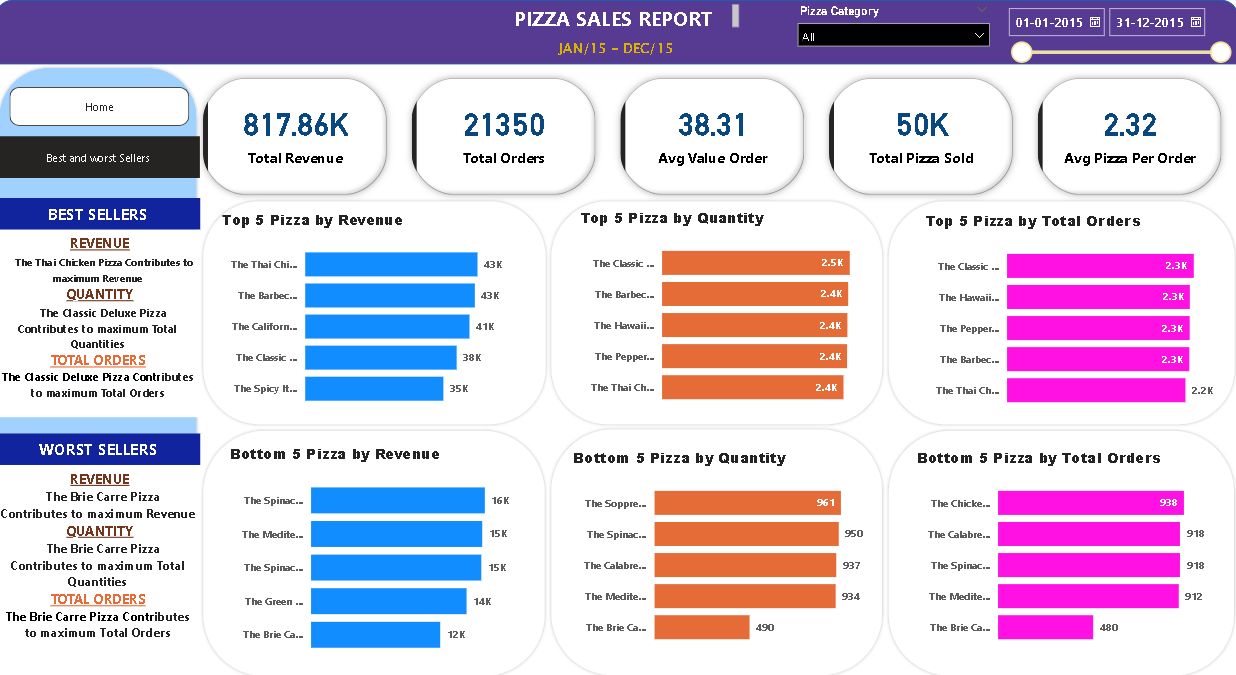

What the dashboard file says about the page in this screenshot:
{"tool":"powerbi","page":{"name":"Best and worst Sellers","canvas":[1500,820],"ordinal":1},"visuals":[{"type":"cardVisual","fields":{"Data":["pizza_sales.Total Revenue","pizza_sales.Total Orders","pizza_sales.Avg Value Order","pizza_sales.Total Pizza Sold","pizza_sales.Avg Pizza Per Order"]},"box":[233.7,77.9,1266.3,173.9],"z":0},{"type":"shape","box":[0,0,1499.9,77.9],"z":1000},{"type":"textbox","box":[597.8,0,304.3,39.9],"z":2000},{"type":"textbox","box":[628.6,43.5,240.9,45.3],"z":3000},{"type":"shape","box":[245.7,238.6,421.4,277.1],"z":4000},{"type":"shape","box":[1074.2,239.1,425.7,277.2],"z":5000},{"type":"shape","box":[246.4,516.3,420.3,304.3],"z":6000},{"type":"shape","box":[667.5,515,407.5,305],"z":7000},{"type":"shape","box":[1075,516.2,425,303.8],"z":8000},{"type":"shape","box":[0,77.9,246.4,742.7],"z":9000},{"type":"textbox","box":[0,277.2,246.4,226.4],"z":10000},{"type":"textbox","box":[0,239.1,246.4,38],"z":11000},{"type":"textbox","box":[0,523.5,246.4,38],"z":12000},{"type":"textbox","box":[0,561.6,246.4,259],"z":13000},{"type":"slicer","fields":{"Values":["pizza_sales.pizza_category"]},"box":[958.3,0,251.8,85.1],"z":14000},{"type":"slicer","fields":{"Values":["pizza_sales.order_date"]},"box":[1210.1,0,289.8,77.9],"z":15000},{"type":"shape","box":[666.6,239.1,407.6,277.2],"z":16000},{"type":"clusteredBarChart","title":"Top 5 Pizza by Revenue","fields":{"Y":["pizza_sales.Total Revenue"],"Category":["pizza_sales.pizza_name"]},"box":[268.6,251.4,370,252.9],"z":17000},{"type":"clusteredBarChart","title":"Bottom 5 Pizza by Revenue","fields":{"Y":["pizza_sales.Total Revenue"],"Category":["pizza_sales.pizza_name"]},"box":[277.2,534.4,360.5,269.9],"z":18000},{"type":"clusteredBarChart","title":"Top 5 Pizza by Quantity","fields":{"Category":["pizza_sales.pizza_name"],"Y":["Sum(pizza_sales.quantity)"]},"box":[701.4,250,360,252.9],"z":19000},{"type":"clusteredBarChart","title":"Bottom 5 Pizza by Quantity","fields":{"Category":["pizza_sales.pizza_name"],"Y":["Sum(pizza_sales.quantity)"]},"box":[691.4,540,360,252.9],"z":20000},{"type":"clusteredBarChart","title":"Top 5 Pizza by Total Orders","fields":{"Category":["pizza_sales.pizza_name"],"Y":["pizza_sales.Total Orders"]},"box":[1117.1,252.9,360,252.9],"z":21000},{"type":"clusteredBarChart","title":"Bottom 5 Pizza by Total Orders","fields":{"Category":["pizza_sales.pizza_name"],"Y":["pizza_sales.Total Orders"]},"box":[1107.1,540,360,252.9],"z":22000},{"type":"pageNavigator","box":[16.3,105.1,217.4,47.1],"z":23000},{"type":"pageNavigator","box":[0,164.8,246.4,50.7],"z":24000}]}

Visuals, with their boxes in screenshot pixels (x1, y1, x2, y2), scaled from the page's 1500x820 canvas onto the 1236x675 screenshot:
cardVisual - pizza_sales.Total Revenue x pizza_sales.Total Orders: 193, 64, 1235, 207
shape: 0, 0, 1235, 64
textbox: 493, 0, 743, 33
textbox: 518, 36, 716, 73
shape: 202, 196, 550, 425
shape: 885, 197, 1235, 425
shape: 203, 425, 549, 674
shape: 550, 424, 886, 674
shape: 886, 425, 1235, 674
shape: 0, 64, 203, 674
textbox: 0, 228, 203, 415
textbox: 0, 197, 203, 228
textbox: 0, 431, 203, 462
textbox: 0, 462, 203, 674
slicer - pizza_sales.pizza_category: 790, 0, 997, 70
slicer - pizza_sales.order_date: 997, 0, 1235, 64
shape: 549, 197, 885, 425
"Top 5 Pizza by Revenue" clusteredBarChart: 221, 207, 526, 415
"Bottom 5 Pizza by Revenue" clusteredBarChart: 228, 440, 525, 662
"Top 5 Pizza by Quantity" clusteredBarChart: 578, 206, 875, 414
"Bottom 5 Pizza by Quantity" clusteredBarChart: 570, 445, 866, 653
"Top 5 Pizza by Total Orders" clusteredBarChart: 920, 208, 1217, 416
"Bottom 5 Pizza by Total Orders" clusteredBarChart: 912, 445, 1209, 653
pageNavigator: 13, 87, 193, 125
pageNavigator: 0, 136, 203, 177
